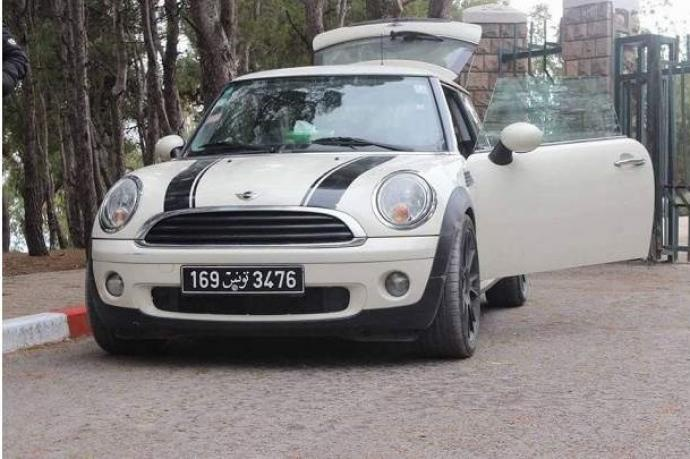LP: (176, 262, 312, 296)
